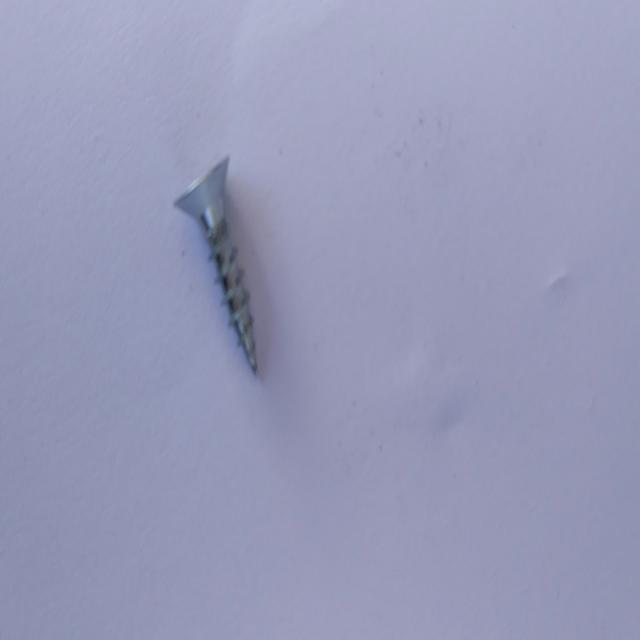Screw: (174, 156, 258, 374)
